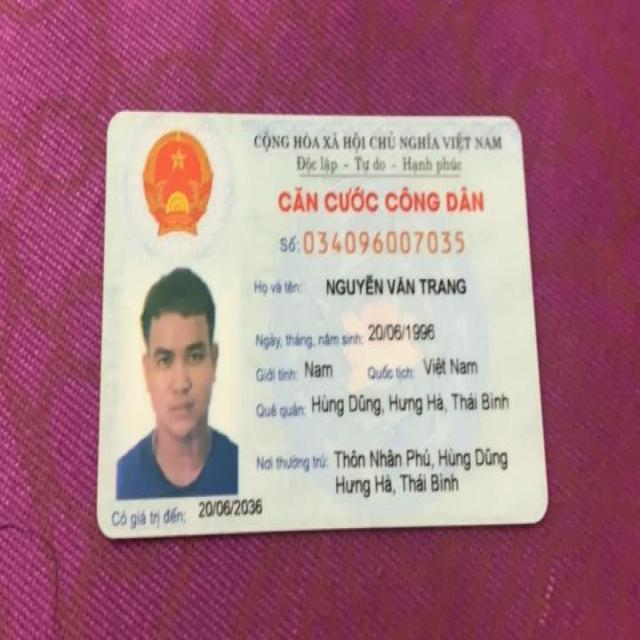bottom_left: (85, 512, 124, 552)
bottom_right: (518, 494, 560, 538)
image_person: (114, 264, 246, 495)
top_left: (94, 100, 136, 142)
top_right: (493, 102, 536, 146)
